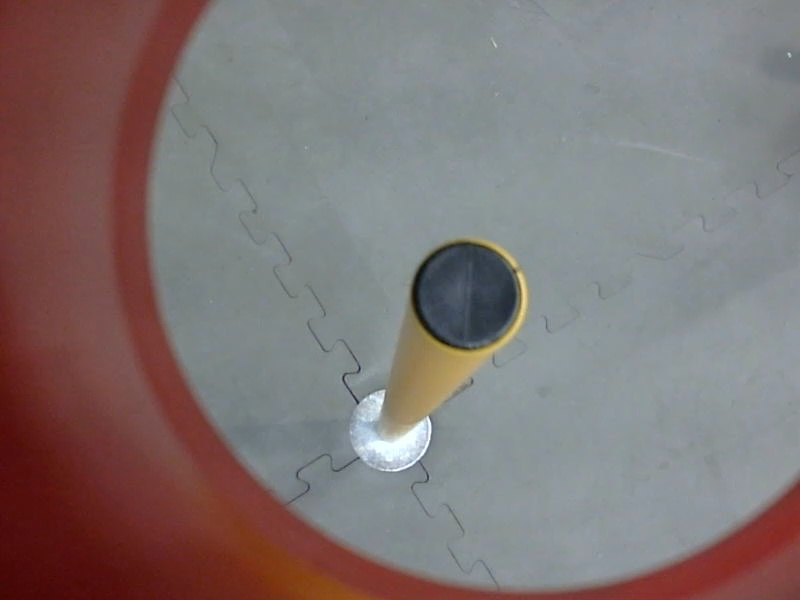tip: (406, 232, 535, 361)
